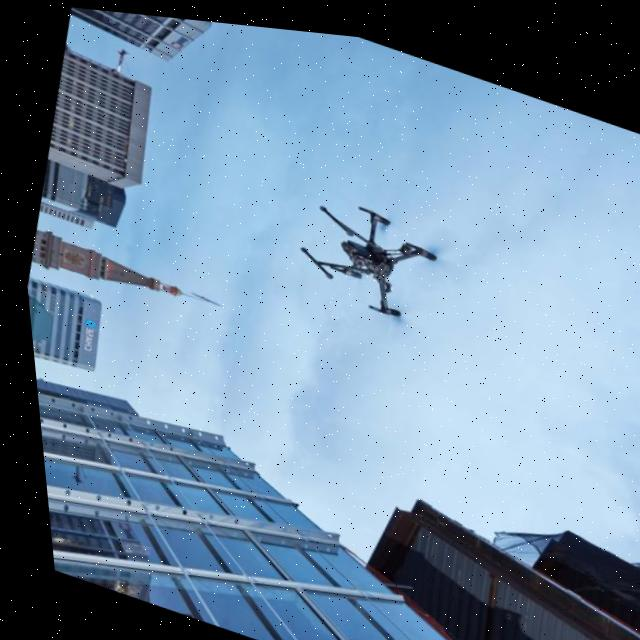drones: (193, 92, 536, 408)
